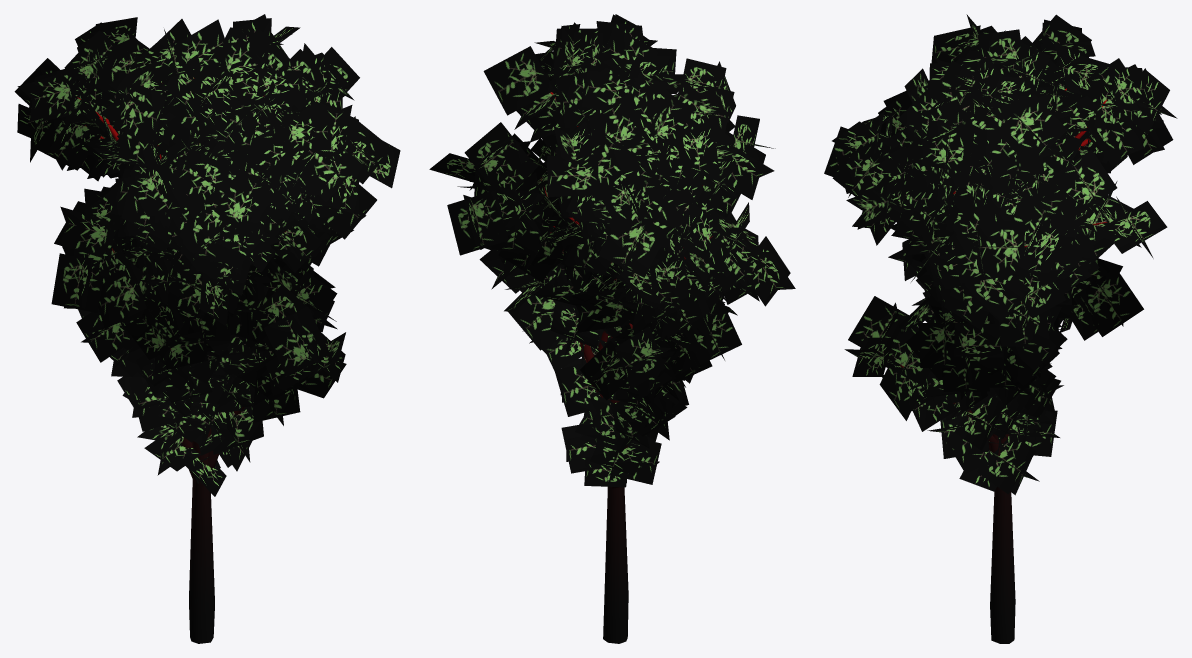
Rendered from Tree_StreetHornbeamB.fbx.
3 renders of one model, left to right at view 1: azimuth 30°, elevation 25°; view 2: azimuth 150°, elevation 25°; view 3: azimuth 270°, elevation 25°, orthographic. The views are drawn at different scales.
Visible parts, largest first — view 1: StreetHornbeamB_LOD0; view 2: StreetHornbeamB_LOD0; view 3: StreetHornbeamB_LOD0.
Part boxes in pixels (box(x1,y1,x2,y2)): StreetHornbeamB_LOD0: box(14, 14, 400, 643); StreetHornbeamB_LOD0: box(429, 14, 795, 643); StreetHornbeamB_LOD0: box(824, 14, 1177, 643).
Size of what is drawn, in the model's own units: 4.86 by 8.62 by 4.56.
